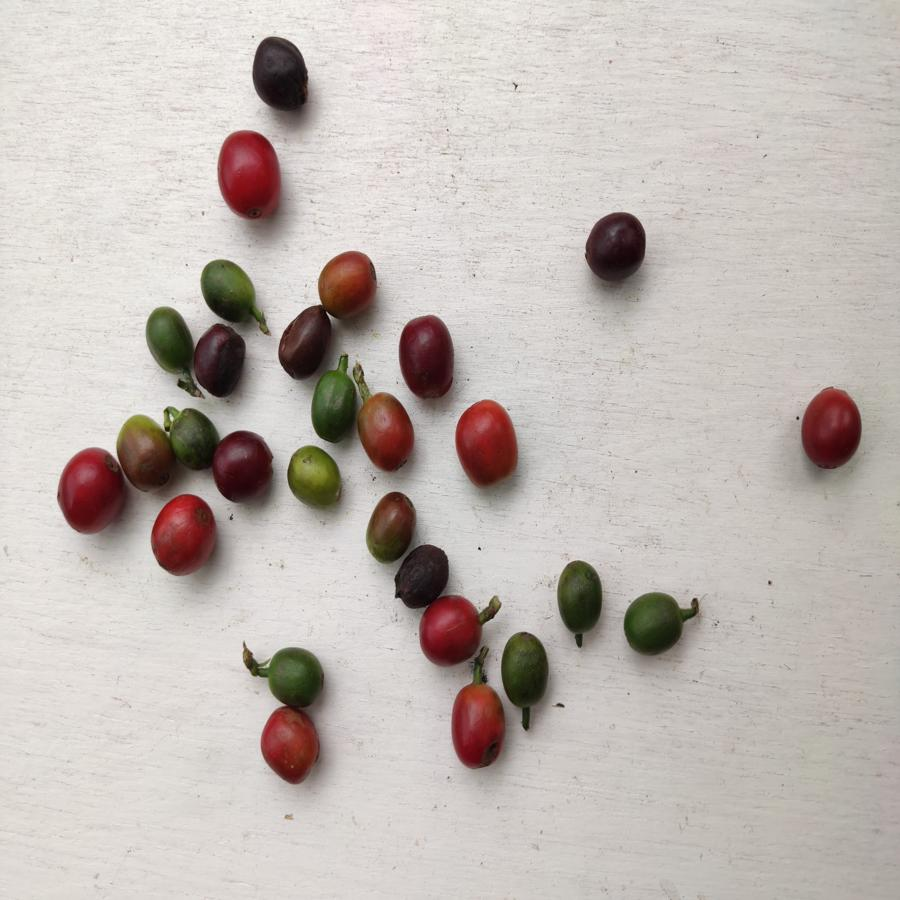Inmaduro: (353, 389, 416, 474), (622, 590, 686, 659), (317, 250, 380, 320), (116, 415, 174, 489), (265, 644, 325, 708), (200, 257, 259, 322), (502, 631, 550, 710), (556, 557, 604, 635), (141, 303, 192, 375), (367, 489, 414, 565), (310, 369, 358, 441), (171, 408, 215, 470)
Maduro: (57, 447, 127, 537), (216, 131, 284, 219), (150, 493, 216, 583), (453, 397, 519, 486), (801, 387, 866, 471), (447, 687, 511, 769), (259, 706, 323, 785), (418, 595, 487, 667)
Pinton: (286, 445, 347, 508)
Sobremaduro: (397, 314, 459, 398), (249, 35, 310, 111), (214, 430, 274, 505), (585, 211, 646, 283), (274, 308, 329, 379), (193, 322, 245, 397), (394, 544, 444, 609)
